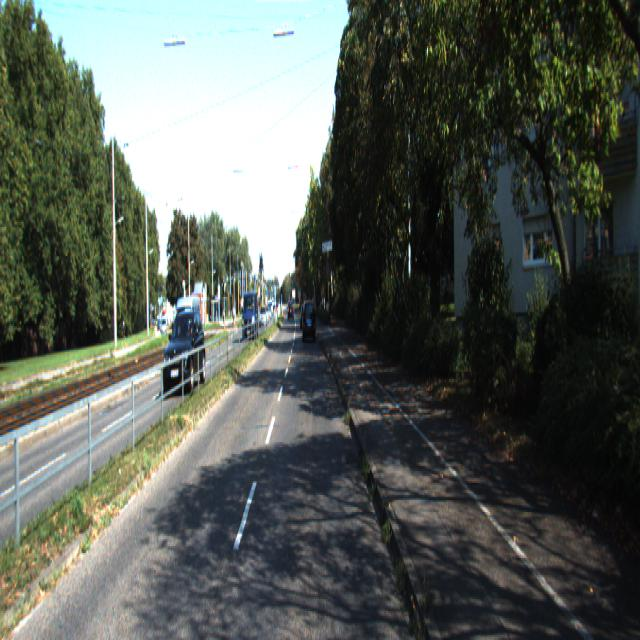Car: (163, 308, 207, 397), (170, 292, 203, 368), (242, 288, 259, 339), (303, 299, 317, 344)
